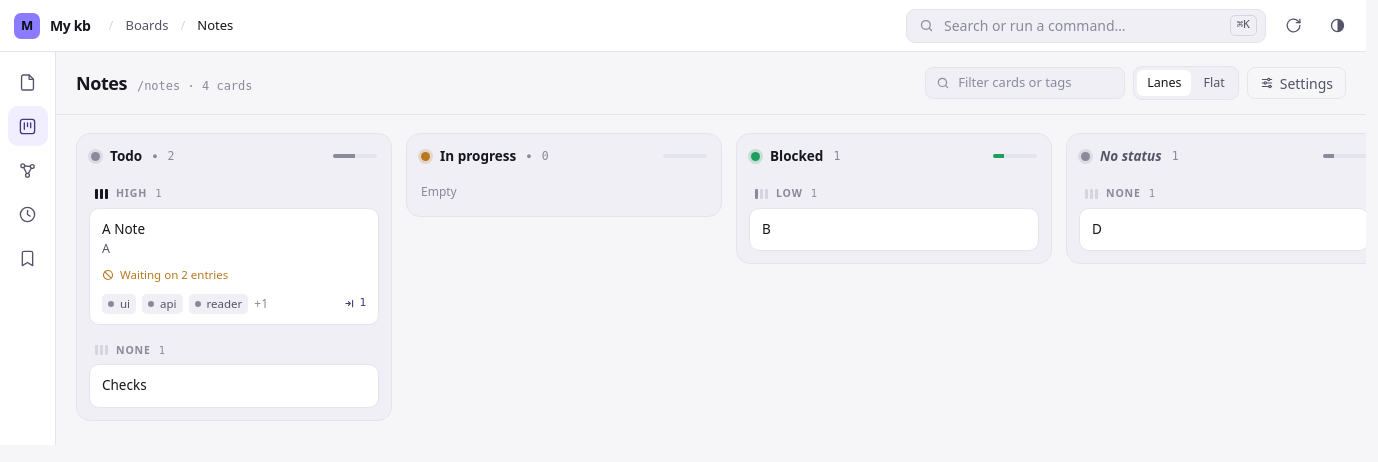
Scenario: the Boards crumb opens the boards panel
Click the button "Boards".
click(147, 26)  # box top-left (120, 14), bottom-right (174, 37)
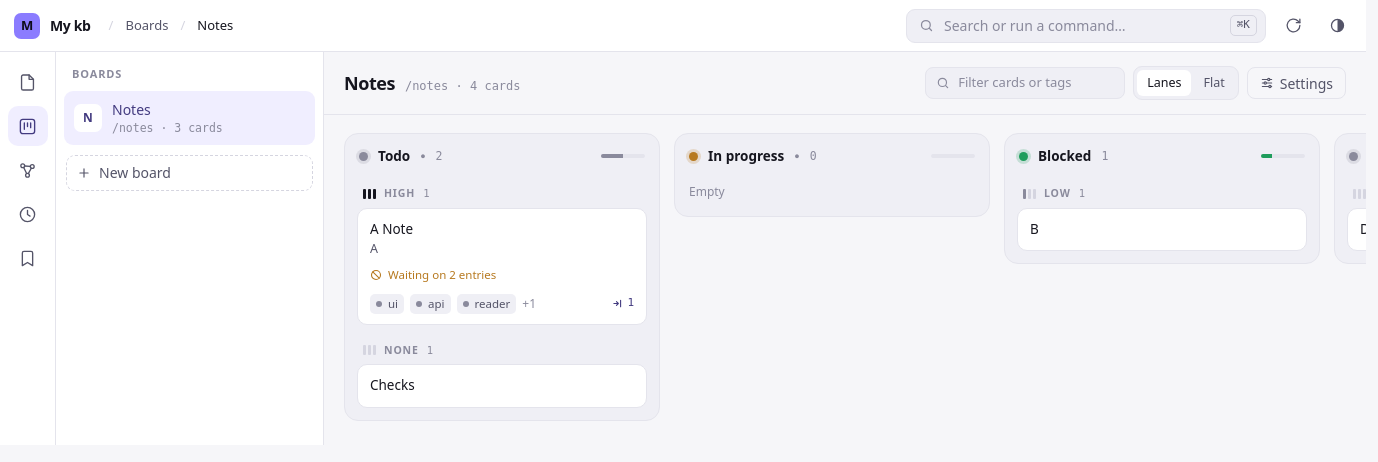
Check: the element showing "Boards N Notes /notes · 3 cards New board" is shown, box top-left (56, 52), bottom-right (324, 445)
